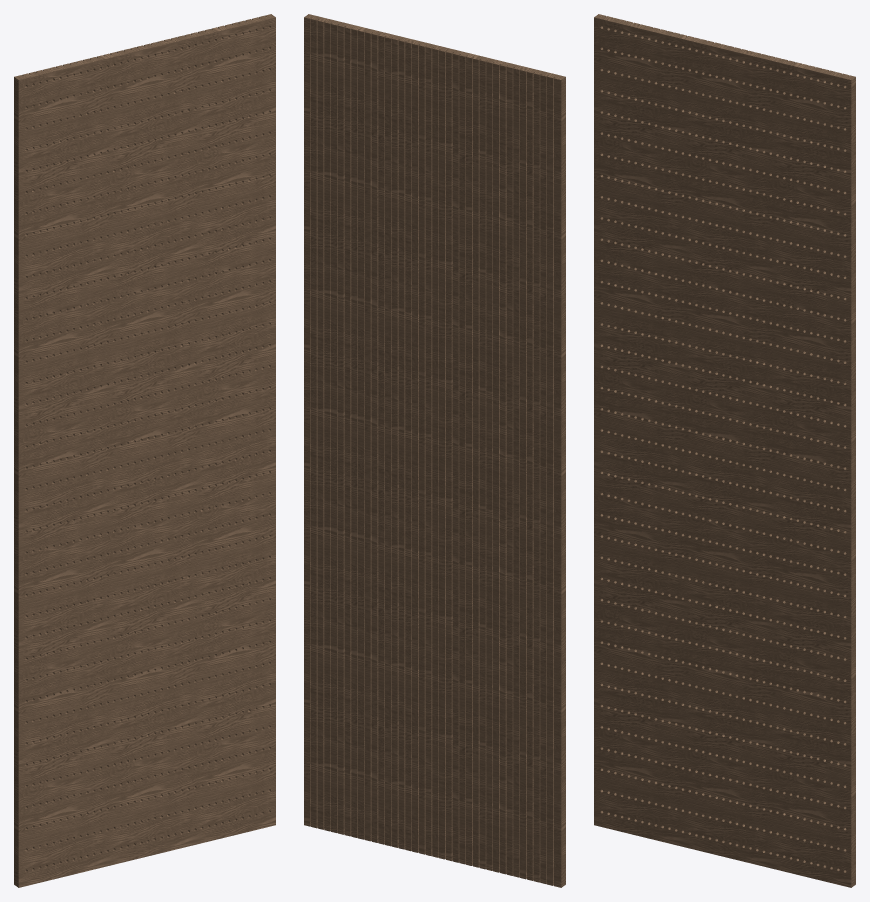
File: DSA 14_2.glb
3 views of the same model, side by side, from view 1: azimuth 30°, elevation 25°; view 2: azimuth 150°, elevation 25°; view 3: azimuth 330°, elevation 25° (orthographic).
Visible parts, largest first — view 1: DSA 14_2 v0; view 2: DSA 14_2 v0; view 3: DSA 14_2 v0.
Part boxes in pixels (bbox=[...]): DSA 14_2 v0: bbox=[14, 14, 275, 887]; DSA 14_2 v0: bbox=[304, 14, 565, 887]; DSA 14_2 v0: bbox=[594, 14, 855, 887].
Bounding box in the file's own units: 24 × 72 × 0.7515.
1 material, 1 textured.
